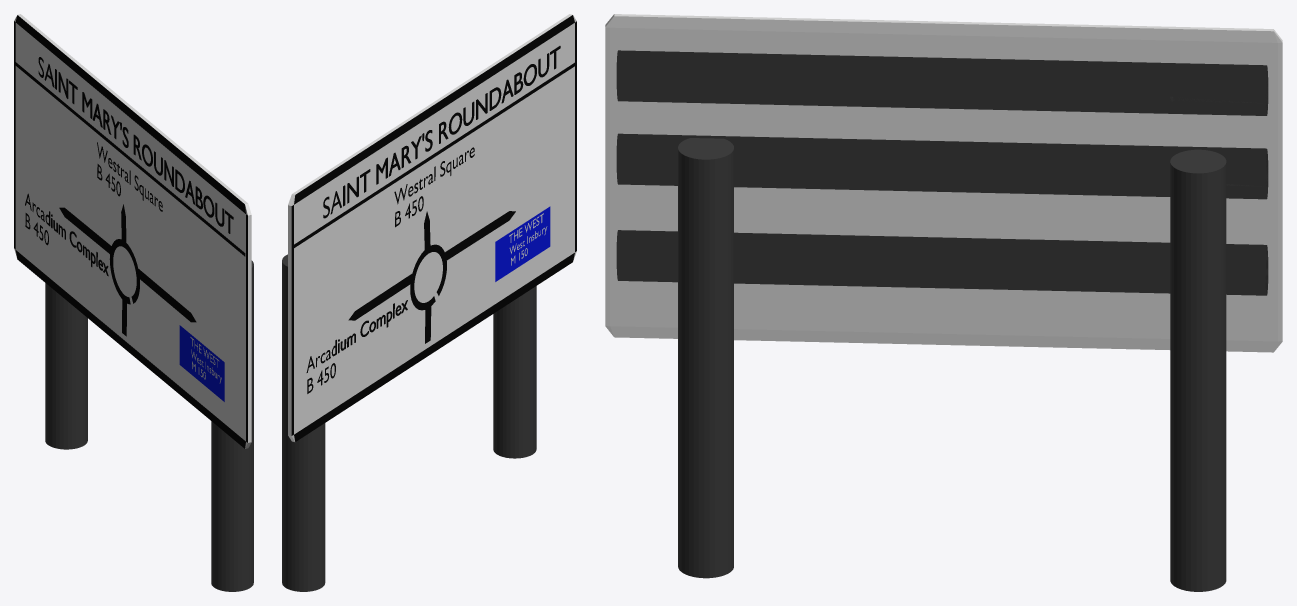
Rendered from RoundaboutSignSTR4.fbx.
The picture shows the model from 3 angles, left to right: view 1: azimuth 30°, elevation 25°; view 2: azimuth 150°, elevation 25°; view 3: azimuth 270°, elevation 25°; orthographic projection. The views are drawn at different scales.
Visible parts, largest first — view 1: Cube.030, Cylinder.001, Cylinder.002, Text.007, Motorway, DashedLine, Text.012, Text.011, Roundel, RightArrow, LeftArrow; view 2: Cube.030, Cylinder.002, Cylinder.001, Text.007, Motorway, DashedLine, Text.012, Roundel, Text.011, RightArrow, LeftArrow; view 3: Cube.030, Cylinder.003, Cylinder.004, Cylinder.005, Cylinder.002, Cylinder.001.
Part boxes in pixels (bbox=[...]): Cube.030: bbox=[14, 14, 251, 448]; Cylinder.001: bbox=[211, 260, 253, 591]; Cylinder.002: bbox=[45, 283, 87, 449]; Text.007: bbox=[38, 57, 233, 233]; Motorway: bbox=[179, 325, 224, 401]; DashedLine: bbox=[14, 61, 245, 256]; Text.012: bbox=[25, 193, 108, 276]; Text.011: bbox=[97, 142, 162, 211]; Roundel: bbox=[109, 239, 139, 304]; RightArrow: bbox=[137, 268, 196, 322]; LeftArrow: bbox=[59, 207, 111, 253]; Cube.030: bbox=[288, 14, 576, 442]; Cylinder.002: bbox=[282, 254, 325, 591]; Cylinder.001: bbox=[493, 286, 536, 458]; Text.007: bbox=[323, 46, 560, 218]; Motorway: bbox=[495, 206, 550, 281]; DashedLine: bbox=[294, 62, 575, 247]; Text.012: bbox=[306, 300, 407, 393]; Roundel: bbox=[410, 244, 446, 310]; Text.011: bbox=[394, 147, 474, 227]; RightArrow: bbox=[444, 211, 515, 262]; LeftArrow: bbox=[348, 273, 412, 320]; Cube.030: bbox=[605, 14, 1282, 352]; Cylinder.003: bbox=[616, 50, 1268, 115]; Cylinder.004: bbox=[616, 133, 1268, 199]; Cylinder.005: bbox=[616, 230, 1268, 295]; Cylinder.002: bbox=[1170, 149, 1226, 591]; Cylinder.001: bbox=[678, 138, 733, 578].
Bounding box in the file's own units: 109 × 670 × 765.
